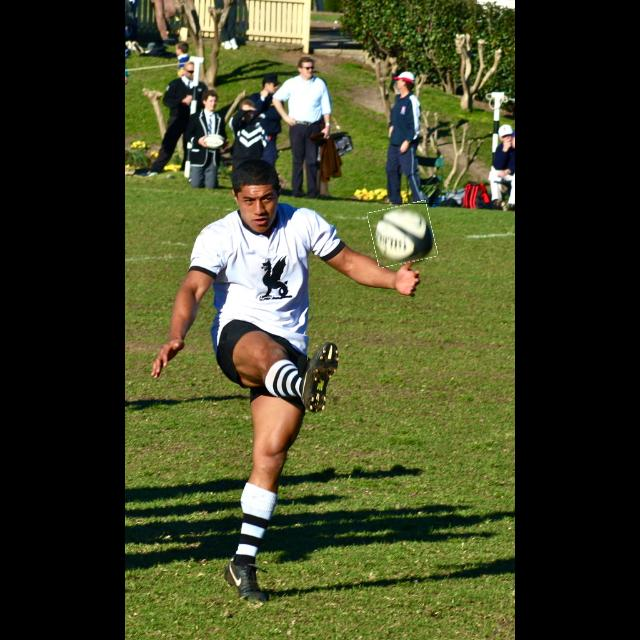Football: (370, 203, 436, 265)
